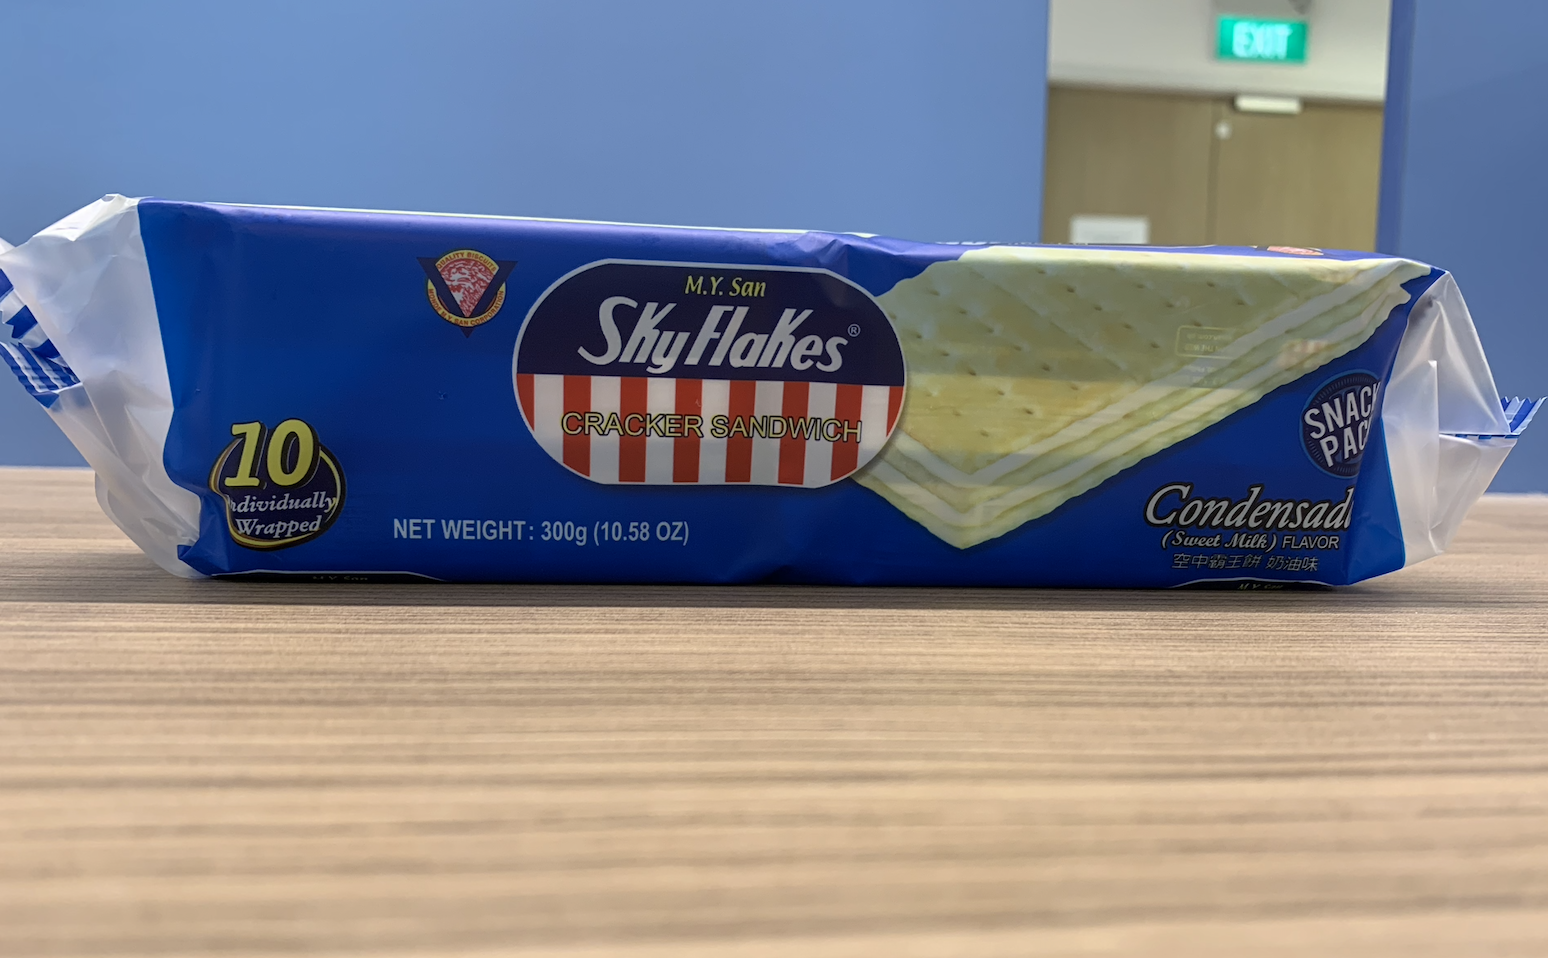crackers_150g: (174, 229, 1395, 576)
